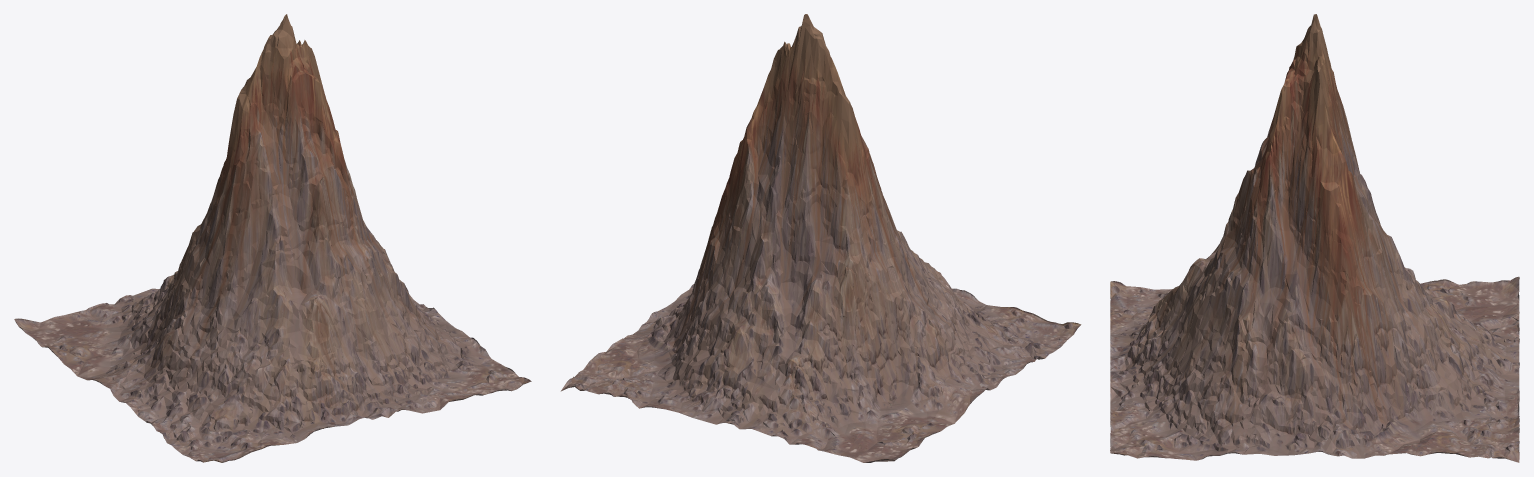
File: montana_02.obj
3 views of the same model, side by side, from view 1: azimuth 30°, elevation 25°; view 2: azimuth 150°, elevation 25°; view 3: azimuth 270°, elevation 25° (orthographic). The views are drawn at different scales.
Visible parts, largest first — view 1: montana_rocosa_02; view 2: montana_rocosa_02; view 3: montana_rocosa_02.
Boxes of the visible parts, <box> form: montana_rocosa_02: <box>14,14,531,462</box>; montana_rocosa_02: <box>560,14,1081,462</box>; montana_rocosa_02: <box>1110,14,1519,462</box>.
Size of the model in its own units: 1 by 0.9994 by 1.
1 material, 1 textured.
